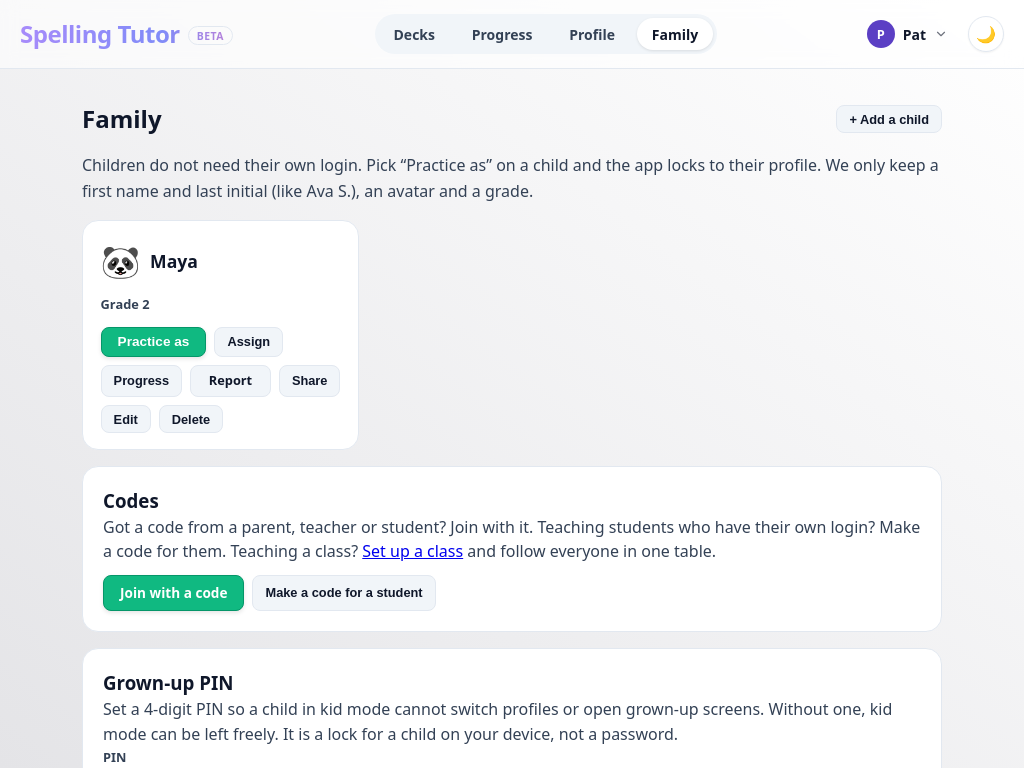
Scenario: Family page: shared children and students › shares a child: makes a code, shows who can already see them, and removes someone
Later steps or results of the test are not shown.
Click the button with aria-label "Share Maya" at (310, 381), box [279,365,340,397]
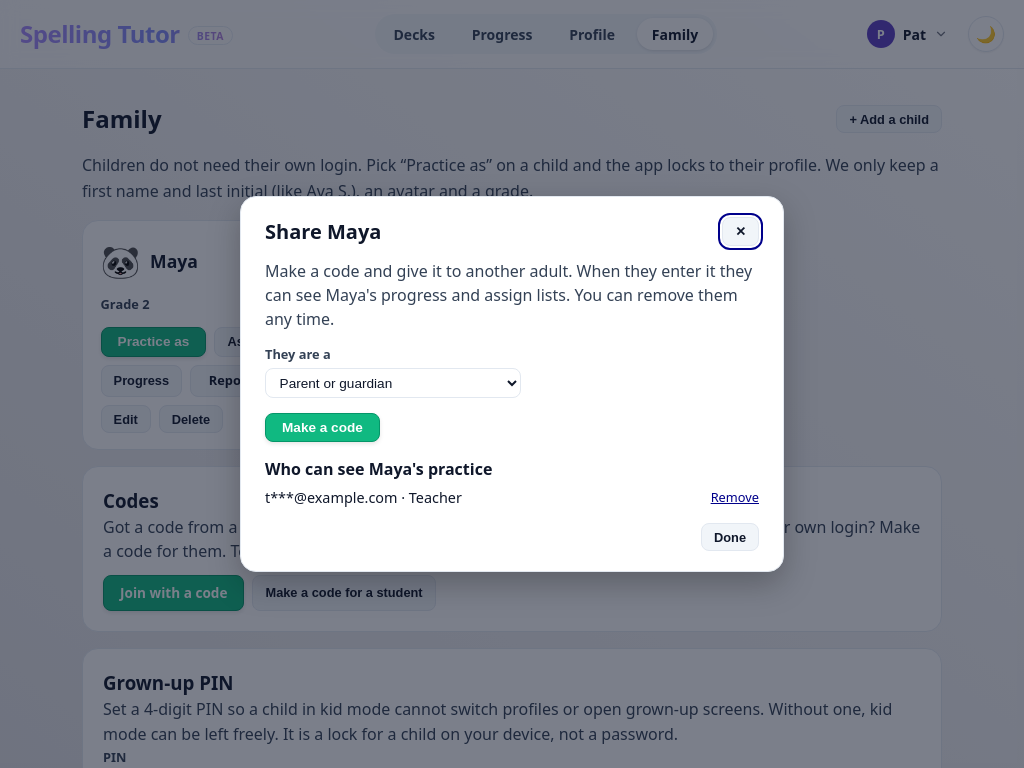
Expected: the list item with aria-label "Can see: t***@example.com" shows "Teacher", [409,488,462,507]
Select "Teacher" in the dropdown labelled "They are a" at (393, 383), box [265,368,521,398]
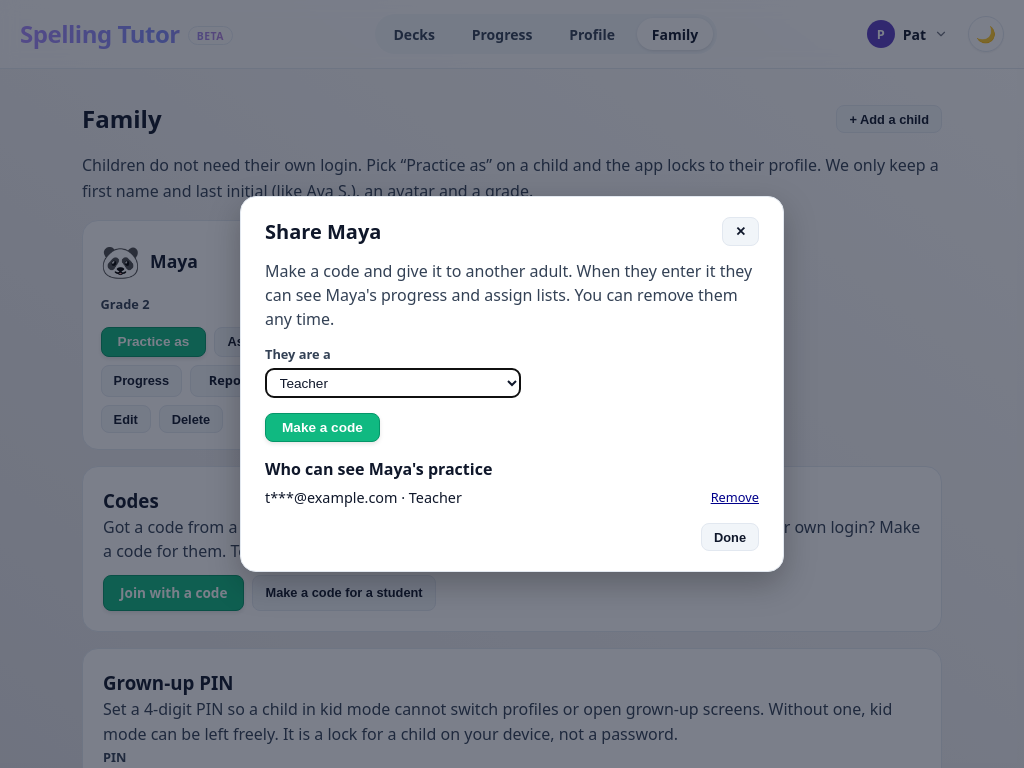
Click the button "Make a code" at (322, 428), box [265,413,380,442]
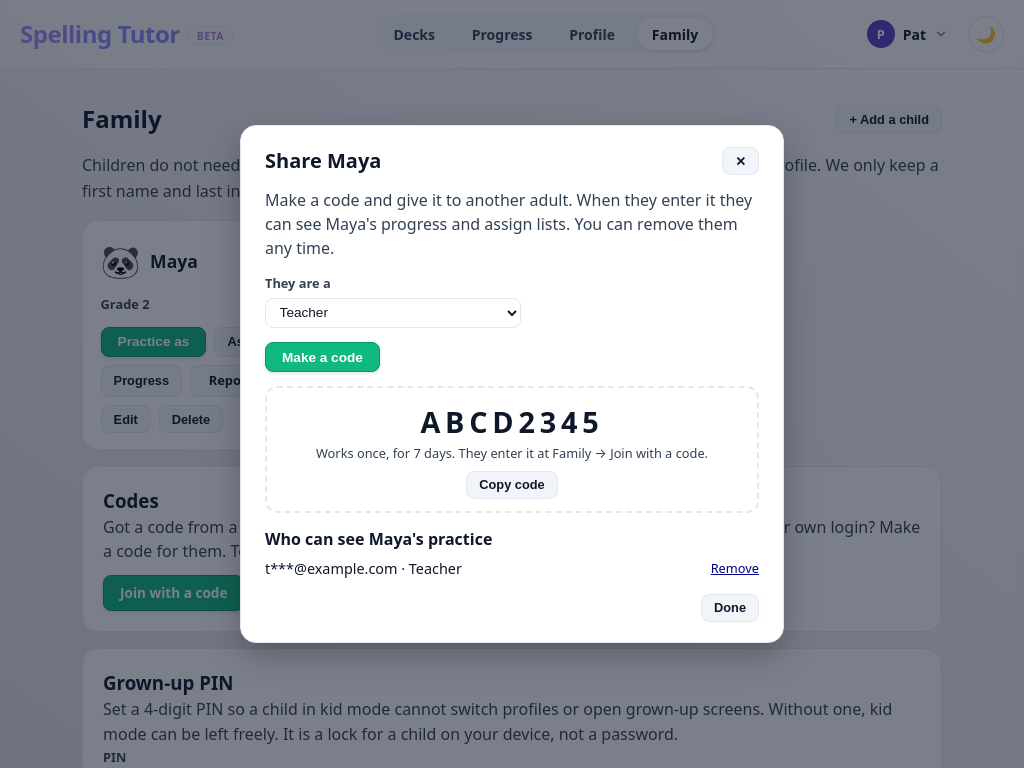
Expected: the text "ABCD2345" is shown, [420,402,604,441]
